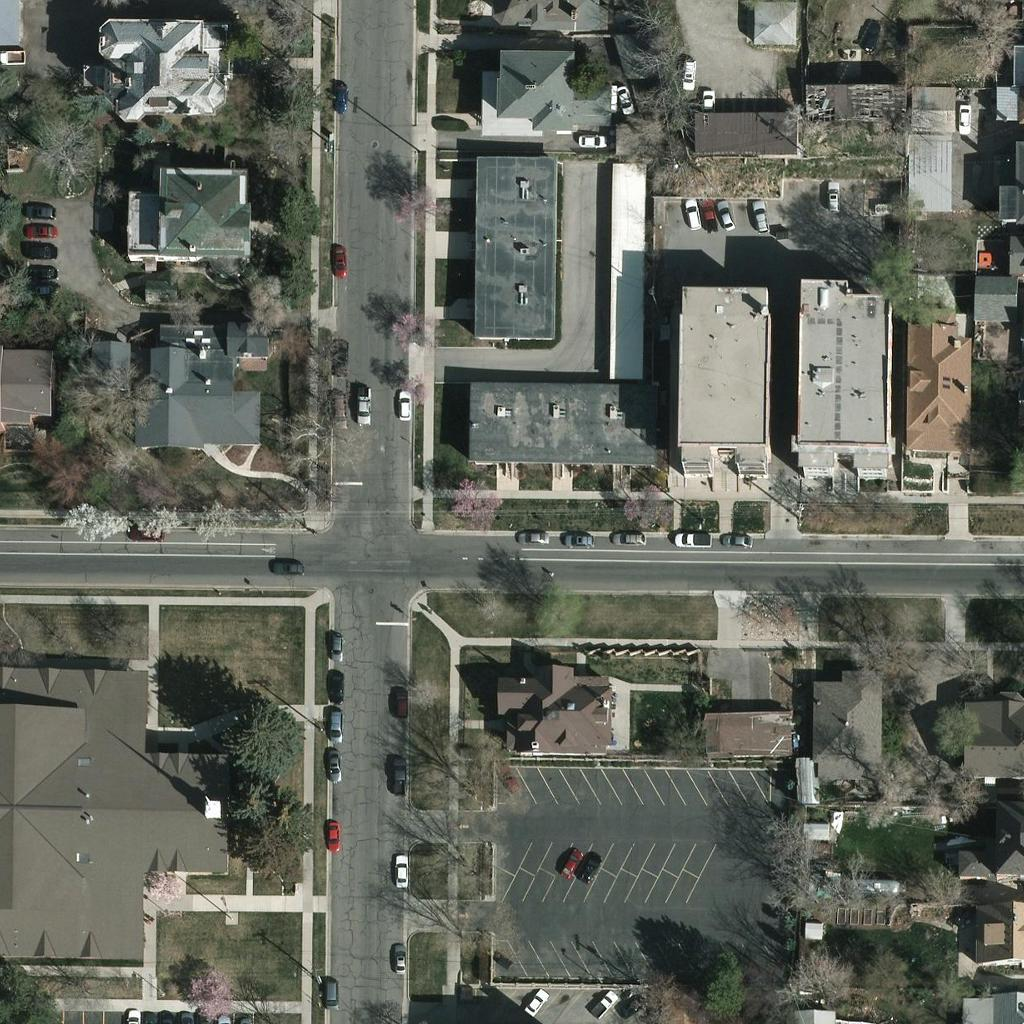car: (853, 23, 887, 57), (670, 56, 704, 90), (322, 79, 356, 113), (606, 80, 640, 114), (689, 88, 723, 122), (945, 101, 979, 135), (571, 124, 605, 158), (815, 180, 849, 214), (20, 194, 54, 228), (673, 197, 707, 231), (691, 197, 725, 231), (708, 200, 742, 234), (742, 200, 776, 234), (22, 212, 56, 246), (24, 233, 58, 267), (321, 241, 355, 275), (24, 255, 58, 289), (23, 270, 57, 304), (323, 339, 357, 373), (347, 387, 381, 421), (323, 389, 357, 423), (386, 390, 420, 424), (128, 515, 162, 549), (519, 518, 553, 552), (675, 520, 709, 554), (562, 521, 596, 555), (613, 521, 647, 555), (720, 521, 754, 555), (273, 549, 307, 583), (319, 629, 353, 663), (318, 669, 352, 703), (383, 687, 417, 721), (317, 706, 351, 740), (316, 745, 350, 779), (382, 757, 416, 791), (491, 760, 525, 794), (316, 816, 350, 850), (553, 848, 587, 882), (573, 851, 607, 885), (384, 853, 418, 887), (382, 943, 416, 977), (314, 976, 348, 1010), (518, 985, 552, 1019), (586, 985, 620, 1019), (0, 39, 19, 73)
